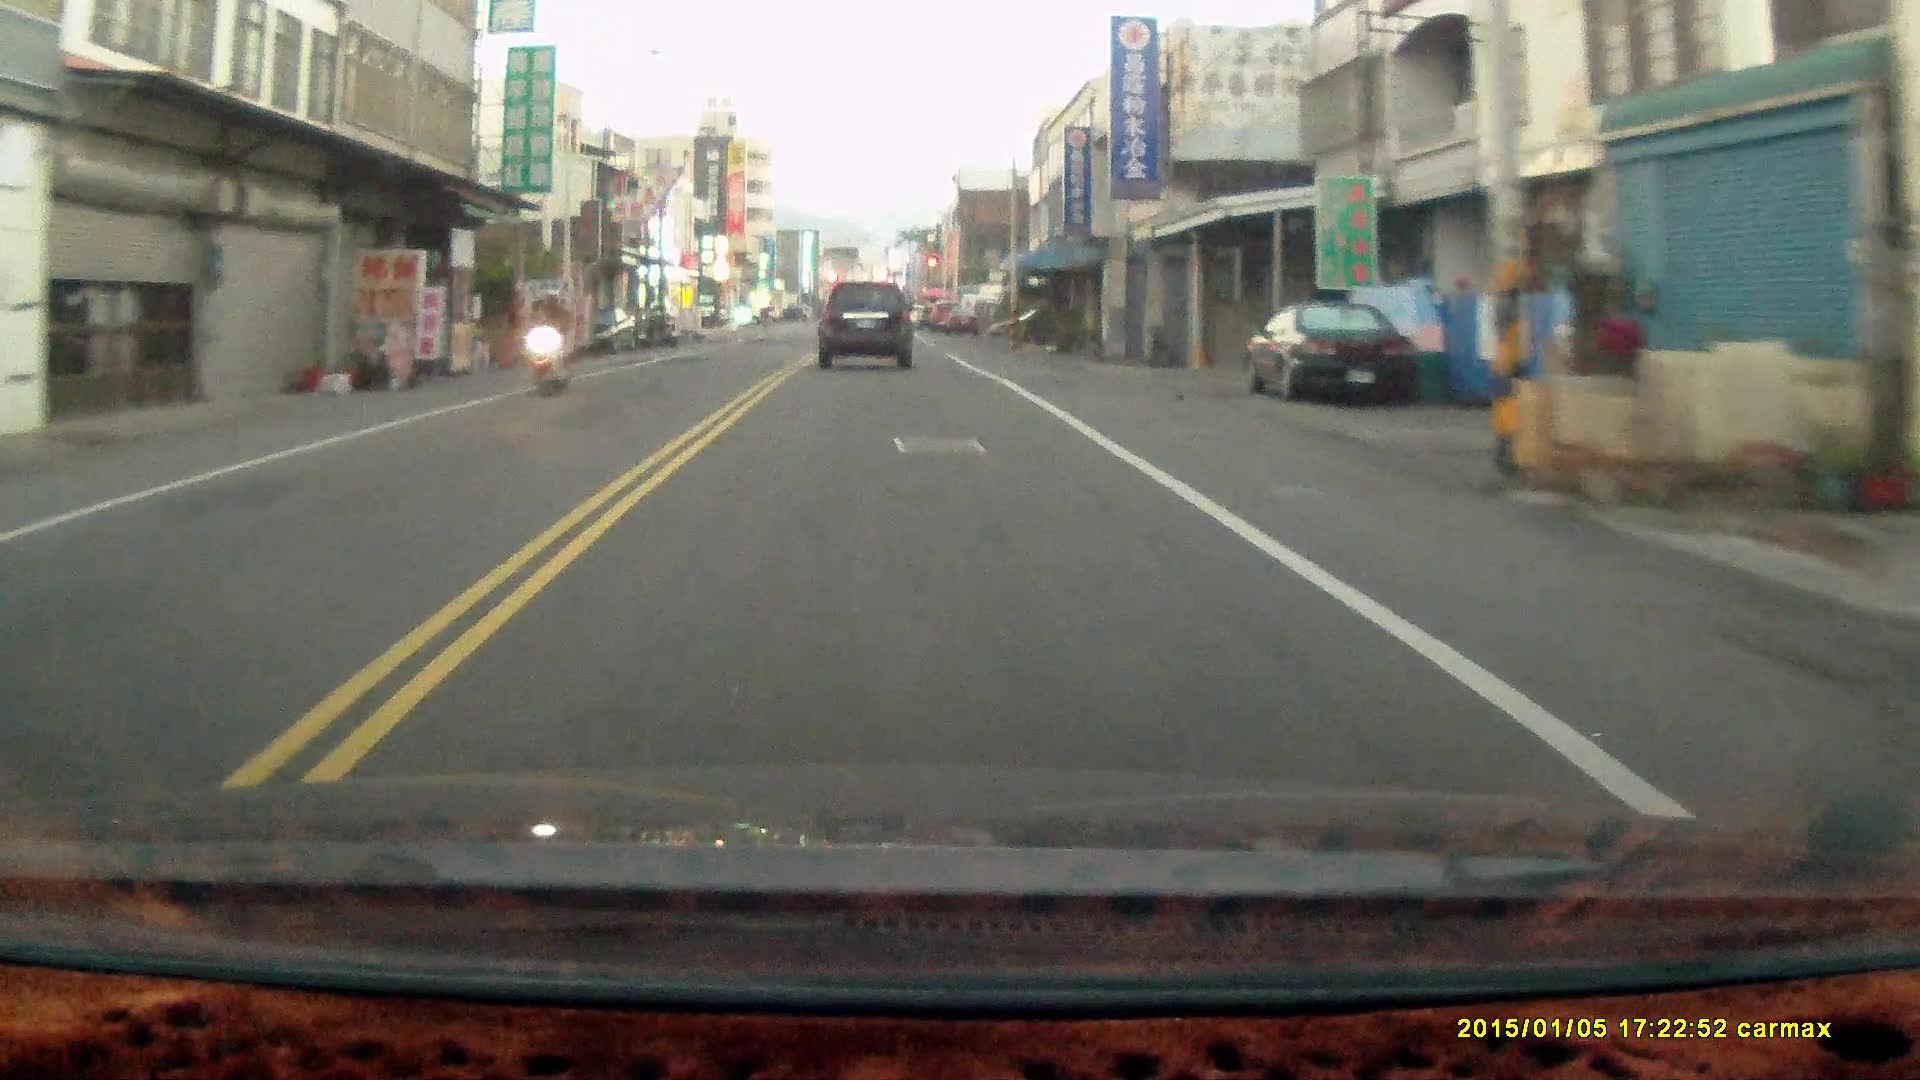rider: (520, 285, 575, 396)
vehicle: (1247, 300, 1423, 408), (818, 277, 915, 366)
